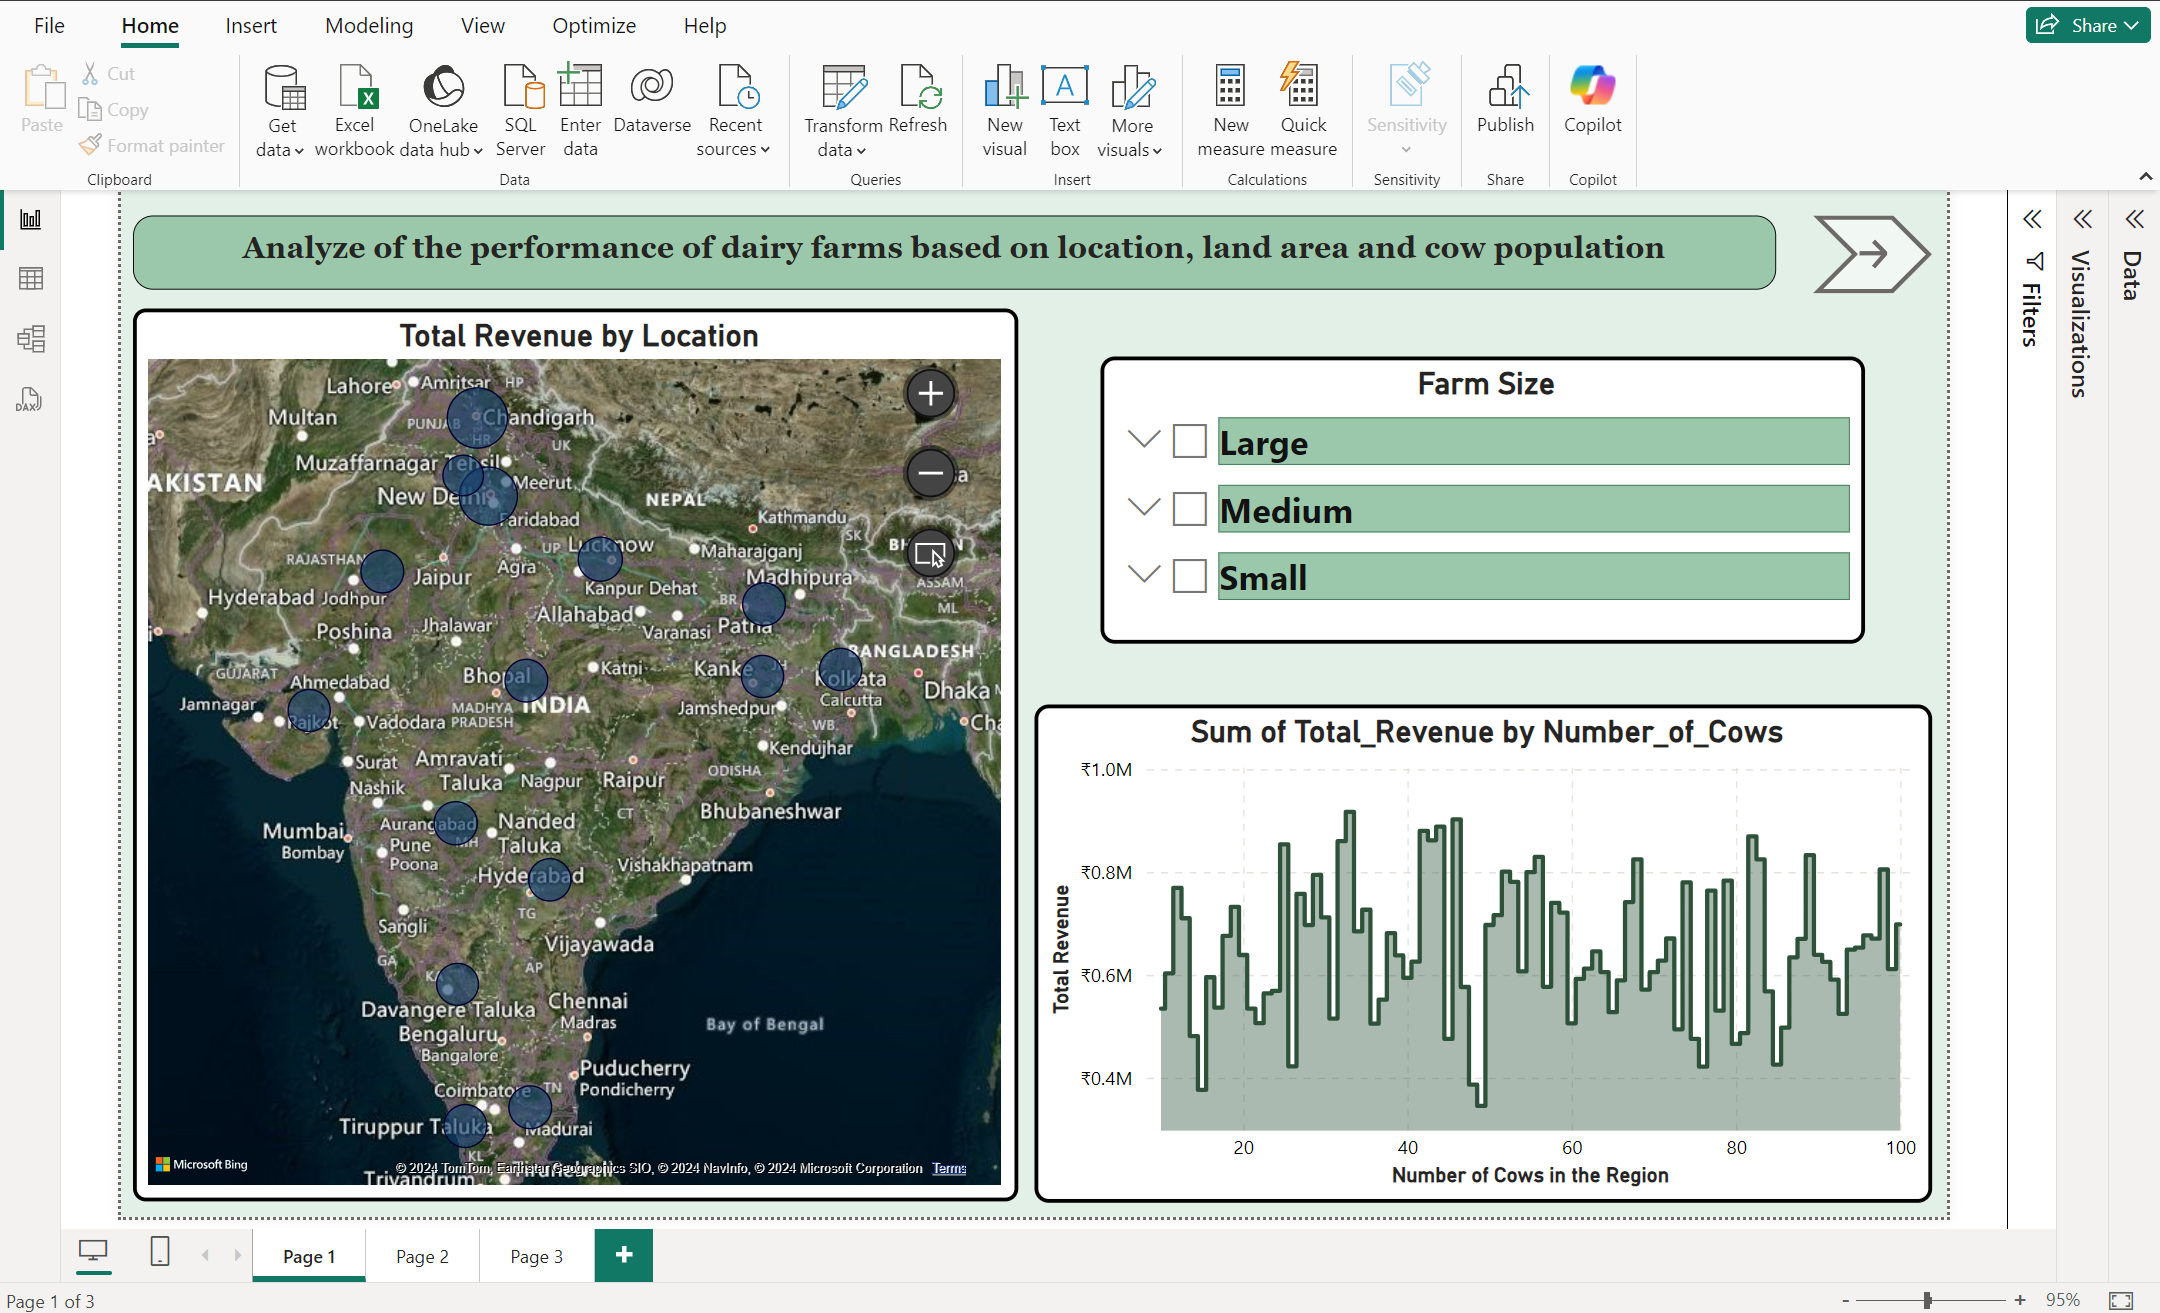

The page's visual inventory and layout, read from the dashboard file:
{"tool":"powerbi","page":{"name":"Page 1","canvas":[1280,720],"ordinal":0},"visuals":[{"type":"stackedAreaChart","fields":{"Category":["dairy_data.Number of Cows"],"Y":["Sum(dairy_data.Total_Revenue)"]},"box":[640.4,360.2,629.3,349.1],"z":0},{"type":"slicer","title":"Farm Size","fields":{"Values":["dairy_data.Farm Size","dairy_data.Total_Value"]},"box":[687.1,116.7,535.9,201.2],"z":1000},{"type":"textbox","box":[8.9,17.8,1151.8,52.3],"z":2000},{"type":"actionButton","box":[1186.2,17.8,83.4,54.5],"z":3000},{"type":"map","title":"Total Revenue by Location","fields":{"Size":["Sum(dairy_data.Total_Revenue)"],"Category":["dairy_data.Location"]},"box":[8.9,83.4,620.4,625.9],"z":4000}]}

Visuals, with their boxes on the page's 1280x720 design canvas (x1, y1, x2, y2). These are canvas units, not pixel positions in the 2160x1313 screenshot, which may show the page scaled, cropped or inside an application window:
stackedAreaChart - dairy_data.Number of Cows x Sum(dairy_data.Total_Revenue): (640, 360, 1270, 709)
"Farm Size" slicer: (687, 117, 1223, 318)
textbox: (9, 18, 1161, 70)
actionButton: (1186, 18, 1270, 72)
"Total Revenue by Location" map: (9, 83, 629, 709)
